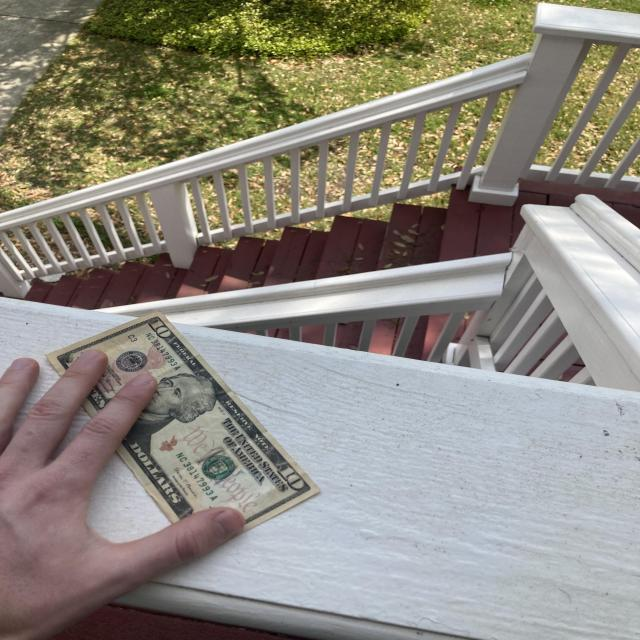ten: (44, 311, 322, 557)
